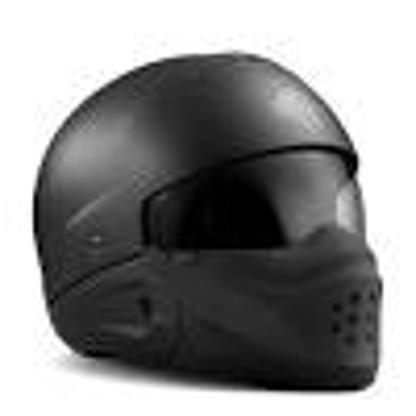not trash: (24, 47, 384, 395)
